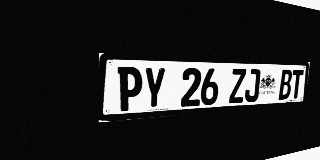2: (181, 68, 202, 107)
6: (200, 68, 220, 106)
B: (278, 69, 293, 100)
J: (244, 69, 261, 102)
P: (117, 67, 143, 112)
T: (290, 70, 304, 99)
Y: (142, 67, 166, 110)
Z: (229, 69, 246, 103)
